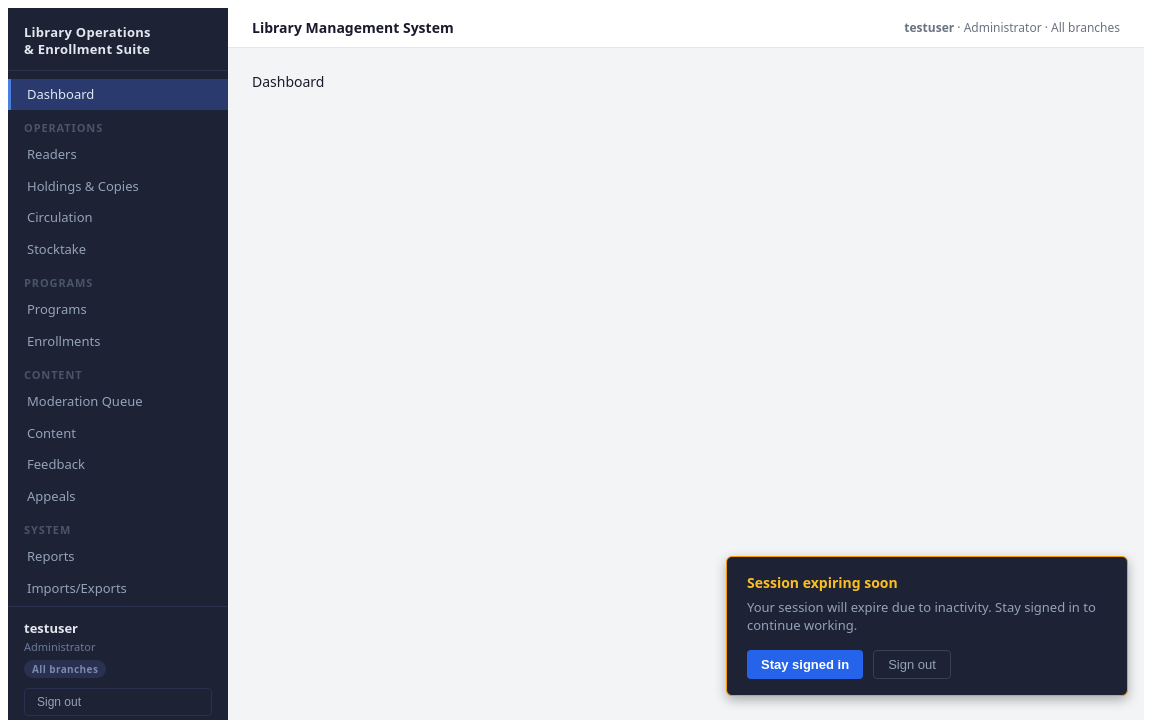
Test: AppShell — session timeout › hides the timeout banner when the user clicks Stay signed in
The image size is (1152, 720).
Check: the message with test id "session-timeout-banner" is shown, box 726,556 -> 1128,696
Click the button "Stay signed in" at (805,664), box 747,650 -> 863,679
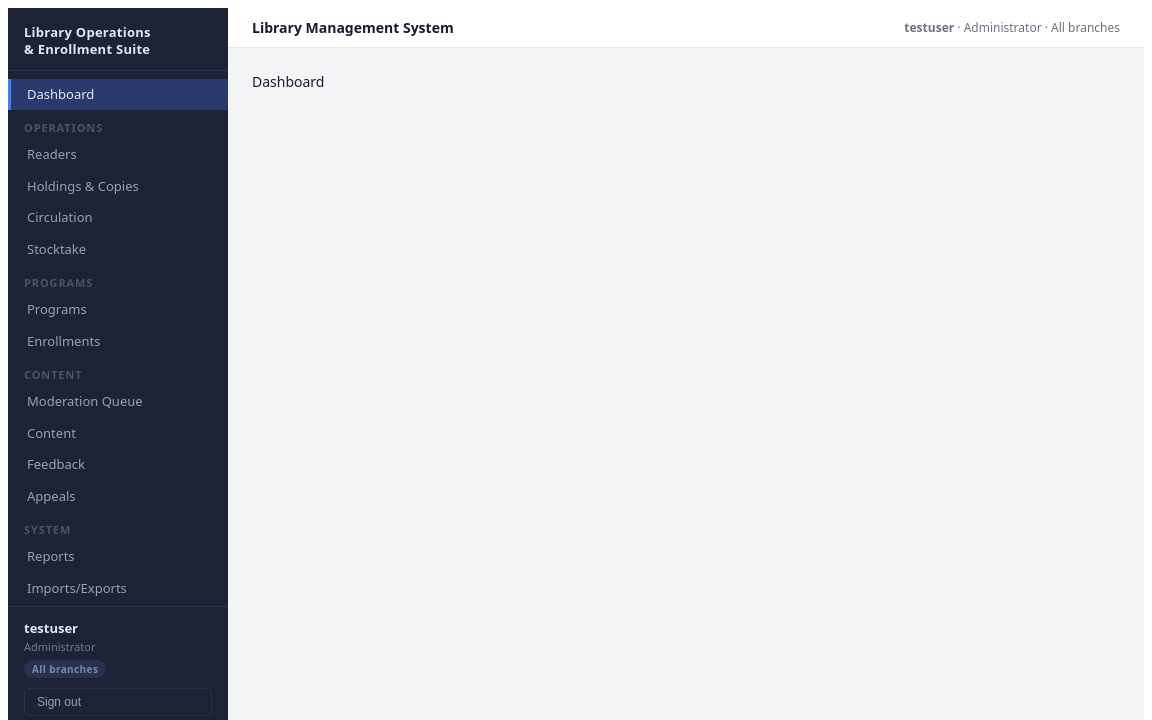
Check: the message with test id "session-timeout-banner" is gone
